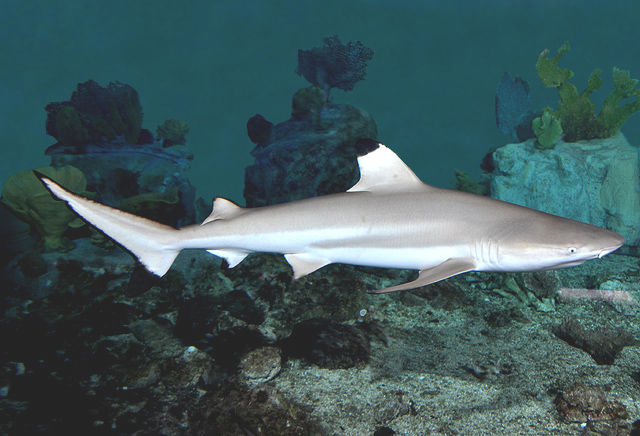fish: (32, 143, 624, 297)
